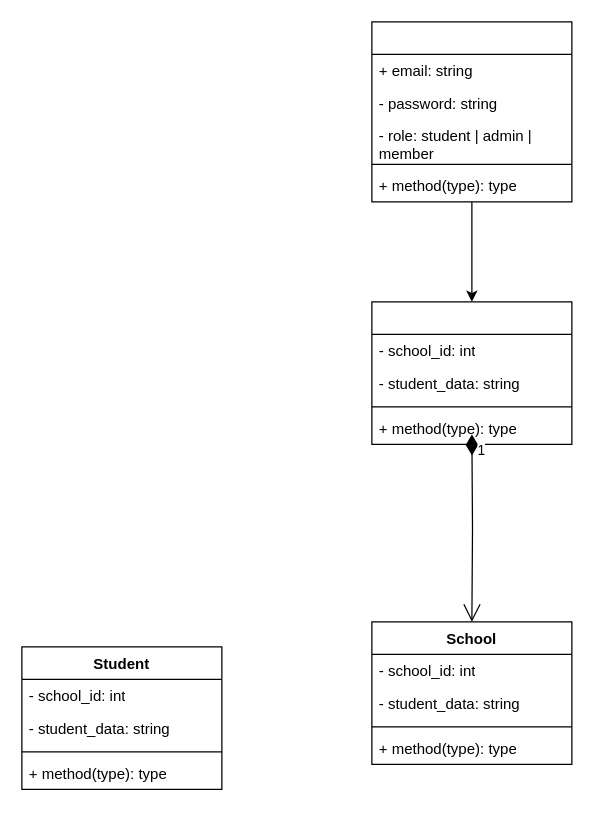
Some shapes in this 594 by 815 pixel diagram are drawn without their labels. Here are the shapes that lost their labels. From the top down, the box of each, then its label:
(371, 21, 572, 202): User
(371, 301, 572, 444): Admin
